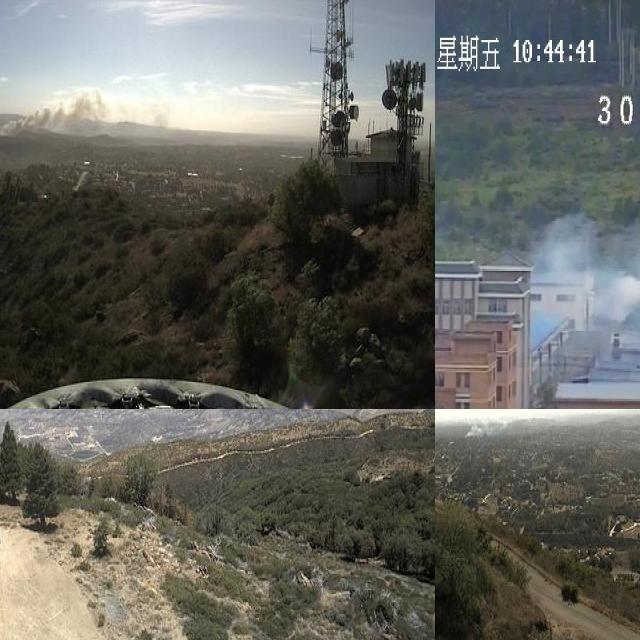smoke: (531, 214, 640, 329), (0, 79, 166, 139), (463, 409, 518, 439)
